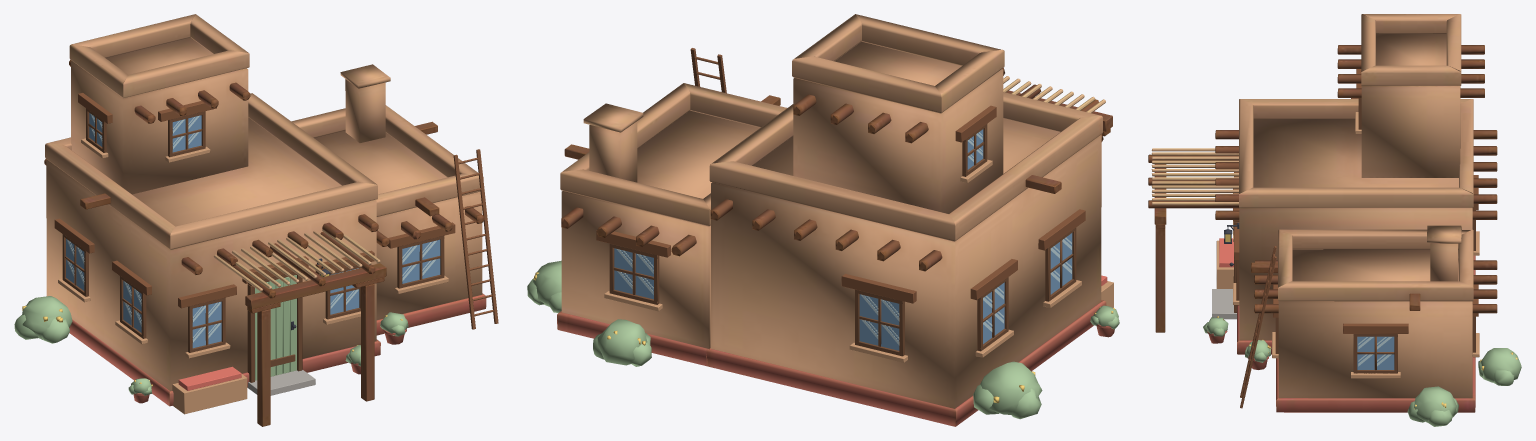
The model's file is adobe-house.glb.
3 renders of one model, left to right at view 1: azimuth 30°, elevation 25°; view 2: azimuth 150°, elevation 25°; view 3: azimuth 270°, elevation 25°, orthographic. The views are drawn at different scales.
Parts seen in each view (by area): view 1: adobe-house_body, adobe-house_details, adobe-house_plants, adobe-house_door_l, adobe-house_glints; view 2: adobe-house_body, adobe-house_details, adobe-house_plants, adobe-house_glints; view 3: adobe-house_body, adobe-house_details, adobe-house_plants.
Part boxes in pixels (left/top/right/bottom): adobe-house_body: left=44, top=14, right=486, bottom=426; adobe-house_details: left=54, top=93, right=498, bottom=414; adobe-house_plants: left=14, top=296, right=408, bottom=395; adobe-house_door_l: left=255, top=275, right=296, bottom=380; adobe-house_glints: left=66, top=113, right=436, bottom=342; adobe-house_body: left=557, top=14, right=1112, bottom=426; adobe-house_details: left=596, top=48, right=1114, bottom=362; adobe-house_plants: left=527, top=260, right=1119, bottom=419; adobe-house_glints: left=616, top=132, right=1071, bottom=345; adobe-house_body: left=1148, top=14, right=1497, bottom=412; adobe-house_details: left=1207, top=69, right=1479, bottom=408; adobe-house_plants: left=1203, top=316, right=1521, bottom=426.
Size of the model in its own units: 9.48 by 5.74 by 7.63.
16 materials, 1 textured.
